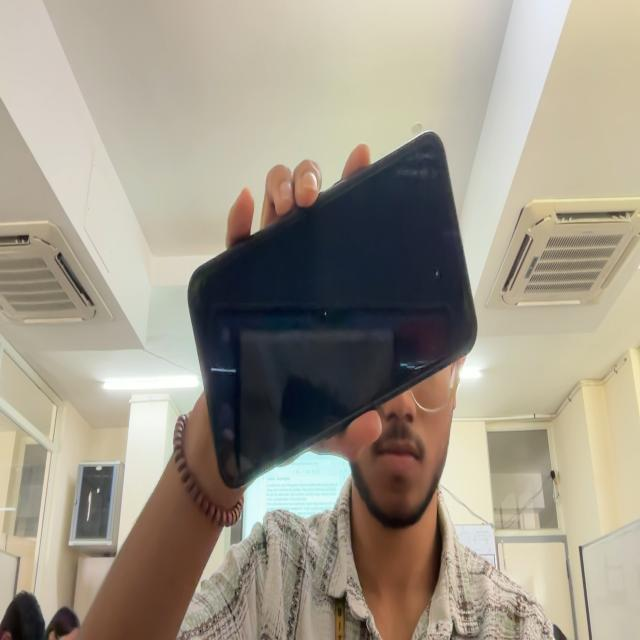Useful: (188, 132, 477, 488)
